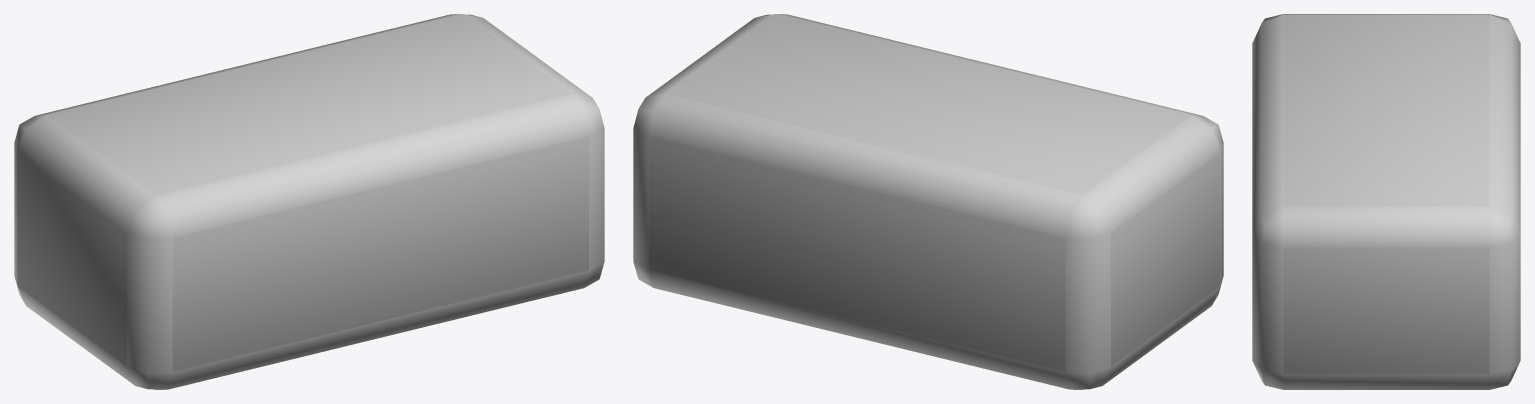
The model's file is stone_6.fbx.
3 renders of one model, left to right at view 1: azimuth 30°, elevation 25°; view 2: azimuth 150°, elevation 25°; view 3: azimuth 270°, elevation 25°, orthographic. The views are drawn at different scales.
Parts seen in each view (by area): view 1: stone_6; view 2: stone_6; view 3: stone_6.
Boxes of the visible parts, <box> form: stone_6: <box>14,14,604,389</box>; stone_6: <box>633,14,1223,389</box>; stone_6: <box>1252,14,1520,389</box>.
Bounding box in the file's own units: 95.08 × 37.24 × 49.53.
